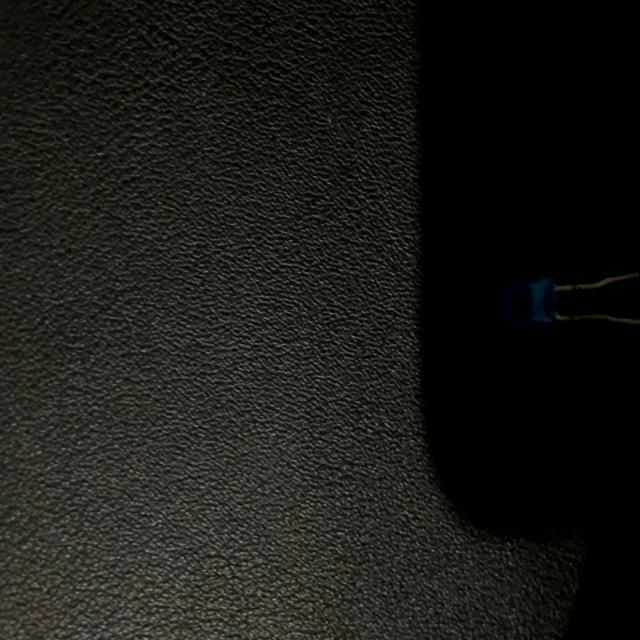LED: (496, 267, 640, 335)
